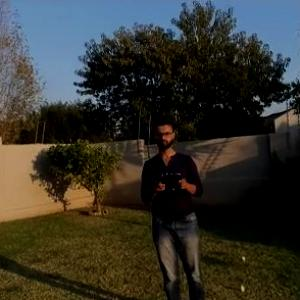follow: (136, 109, 208, 299)
